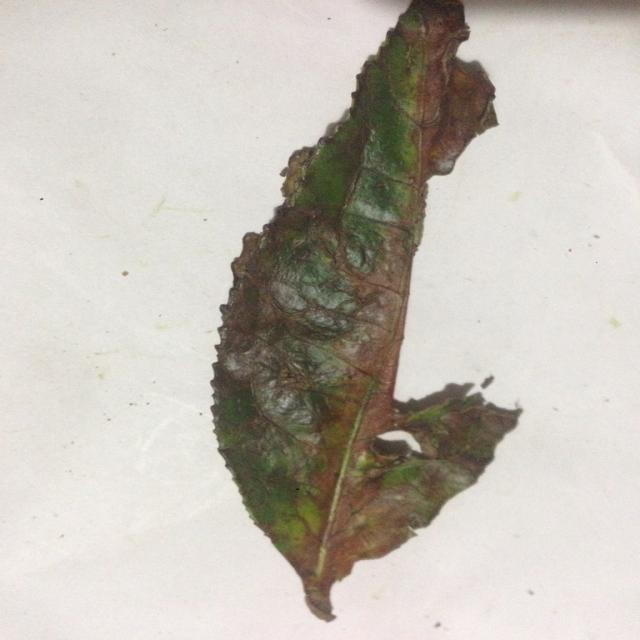Red Leaf Spot: (201, 0, 534, 625)
